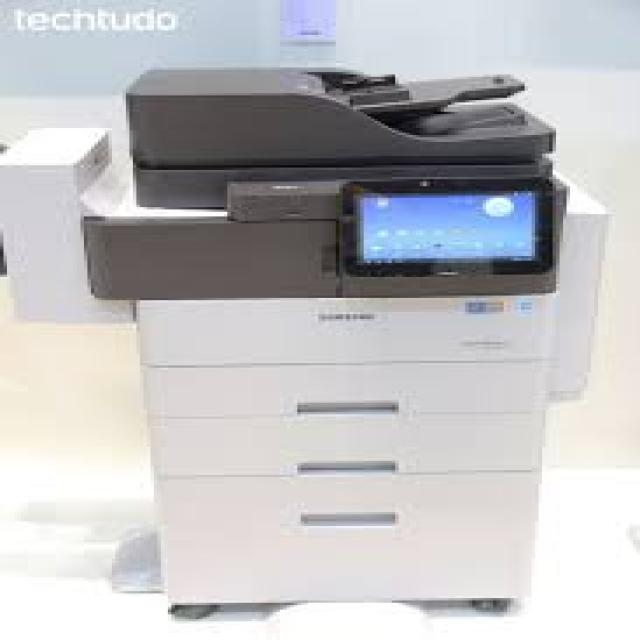printer: (0, 66, 611, 615)
